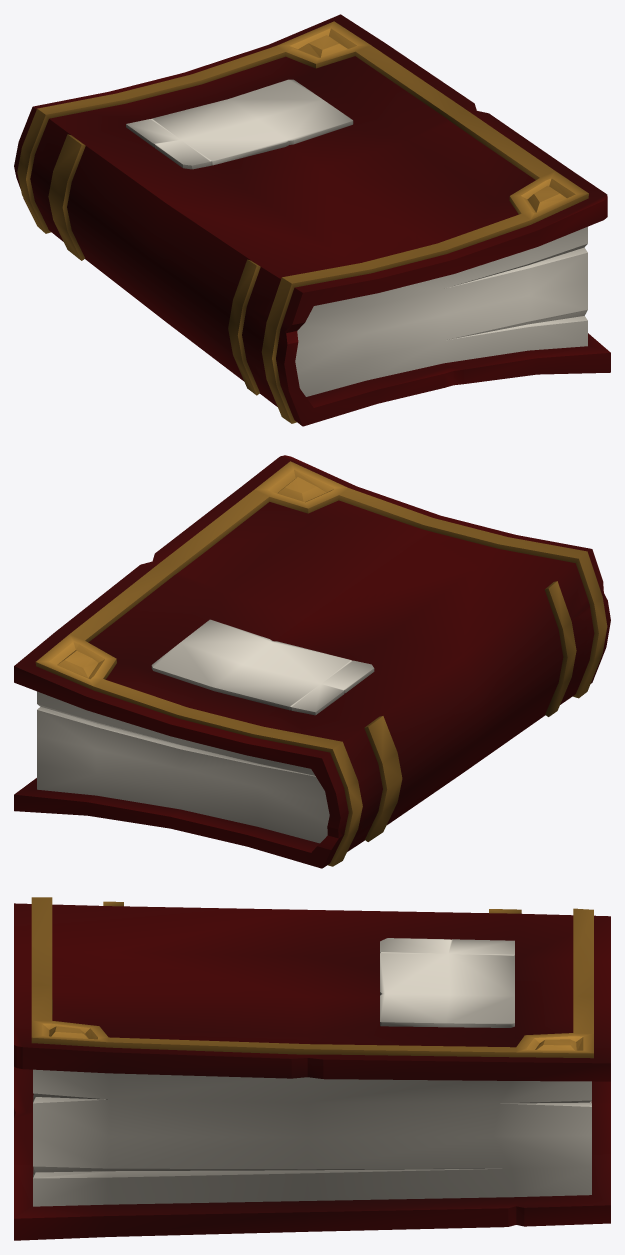
File: obj_bookClosed_B.FBX
The picture shows the model from 3 angles, top to bottom: view 1: azimuth 30°, elevation 25°; view 2: azimuth 150°, elevation 25°; view 3: azimuth 270°, elevation 25°; orthographic projection. The views are drawn at different scales.
Visible parts, largest first — view 1: obj_bookClosed_B; view 2: obj_bookClosed_B; view 3: obj_bookClosed_B.
Part boxes in pixels (box(x1,y1,x2,y2)): obj_bookClosed_B: box(14, 14, 610, 426); obj_bookClosed_B: box(14, 455, 610, 868); obj_bookClosed_B: box(14, 897, 610, 1240).
Size of the model in its own units: 0.7996 by 0.4012 by 1.11.
